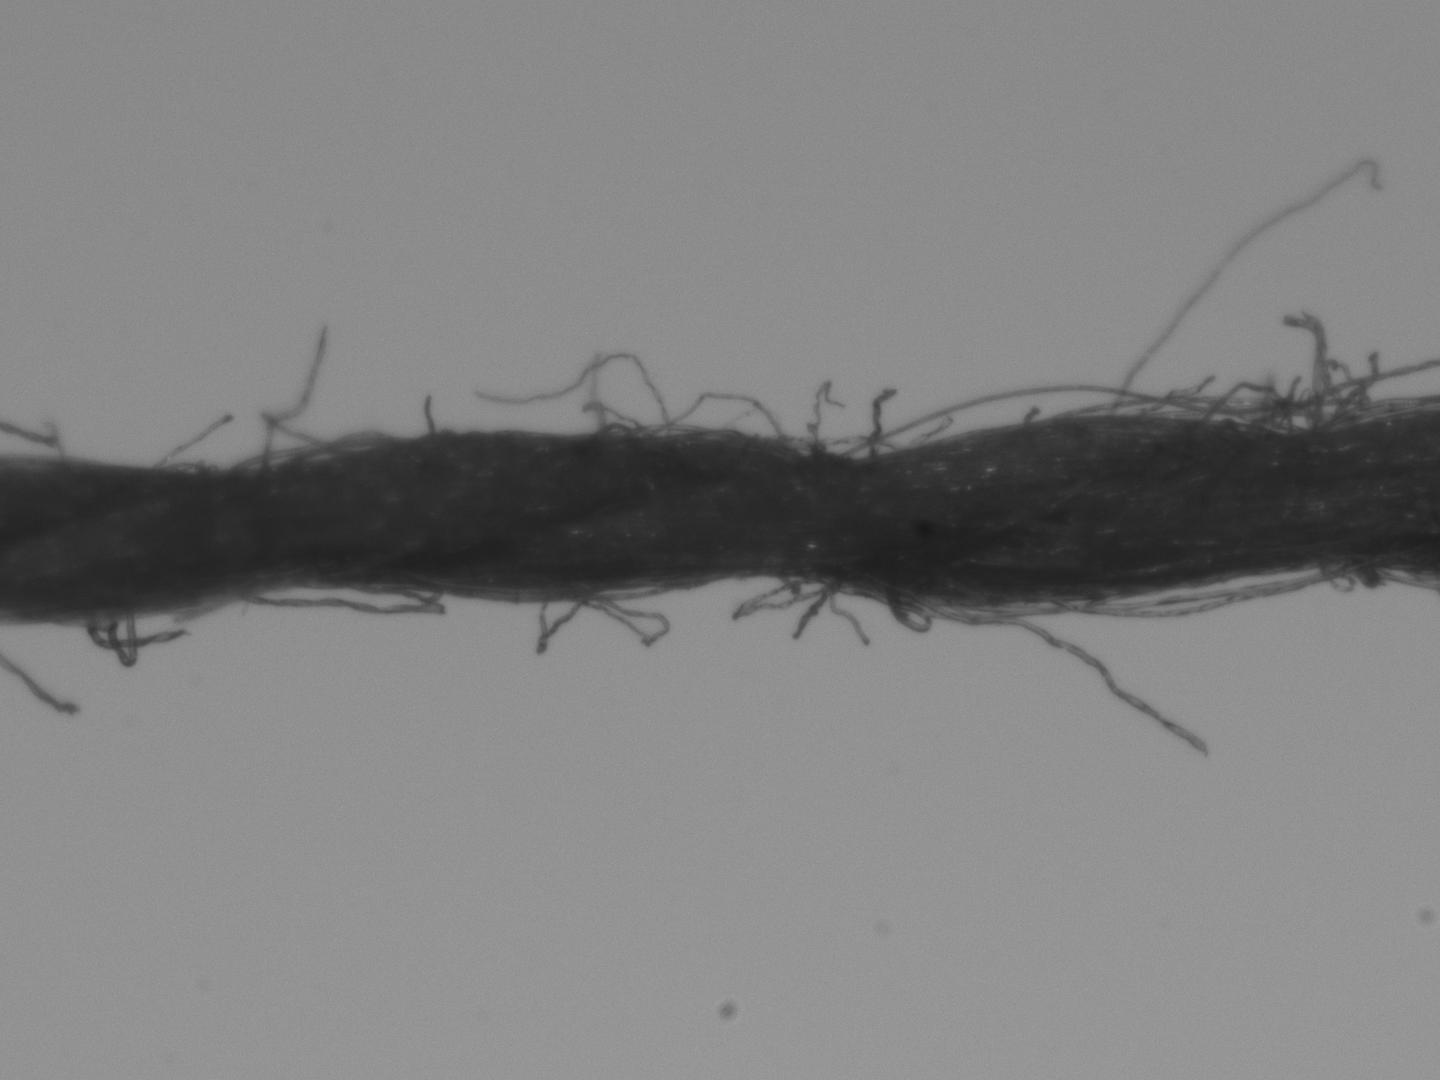loop_fiber: (862, 389, 1161, 449), (1047, 565, 1337, 623), (239, 579, 442, 619), (641, 393, 783, 440), (240, 432, 400, 474), (1197, 383, 1291, 433), (532, 592, 588, 655), (778, 437, 899, 457), (152, 458, 213, 479)
protruding_fiber: (1112, 157, 1386, 410), (930, 593, 1215, 760), (259, 327, 328, 471), (789, 574, 845, 643), (871, 385, 900, 461), (423, 394, 438, 436)
